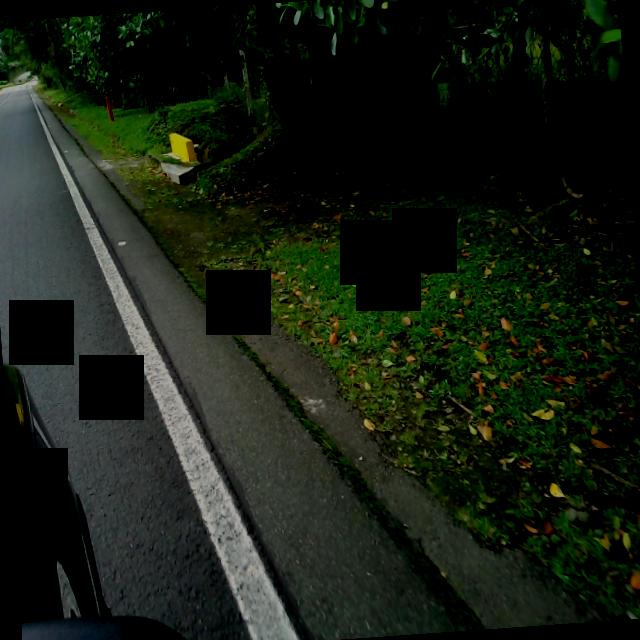DITCH: (26, 36, 639, 640), (0, 70, 640, 640)
